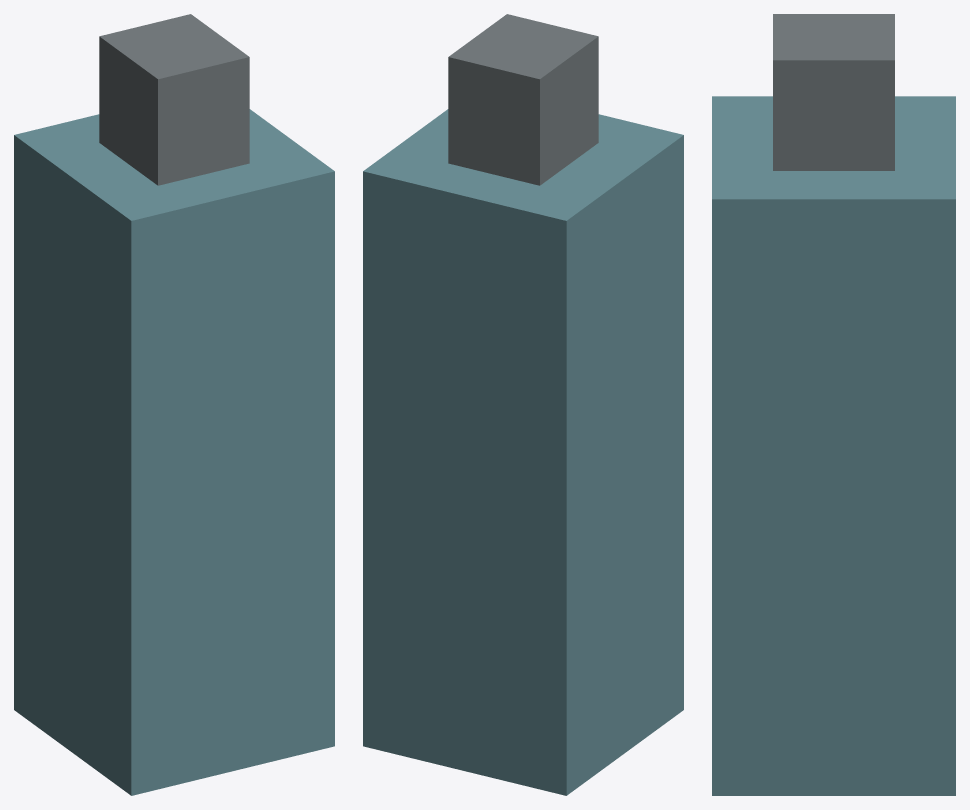
Rendered from water_bottle.glb.
3 renders of one model, left to right at view 1: azimuth 30°, elevation 25°; view 2: azimuth 150°, elevation 25°; view 3: azimuth 270°, elevation 25°, orthographic. The views are drawn at different scales.
Visible parts, largest first — view 1: body; view 2: body; view 3: body.
Part boxes in pixels (bbox=[...]): body: bbox=[14, 14, 334, 795]; body: bbox=[363, 14, 683, 795]; body: bbox=[712, 14, 955, 795].
Size of the model in its own units: 0.1 by 0.32 by 0.1.
